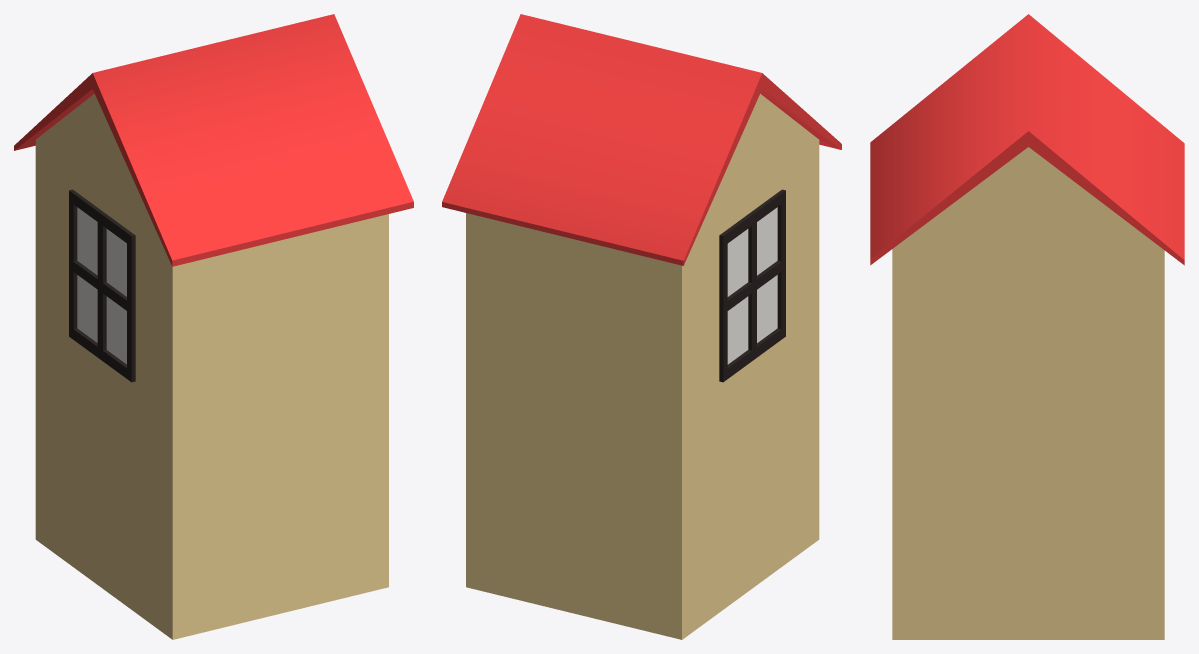
Rendered from House 05 R.FBX.
3 renders of one model, left to right at view 1: azimuth 30°, elevation 25°; view 2: azimuth 150°, elevation 25°; view 3: azimuth 270°, elevation 25°, orthographic.
Parts seen in each view (by area): view 1: Box001; view 2: Box001; view 3: Box001.
Part boxes in pixels (<box>): Box001: <box>14,14,413,639</box>; Box001: <box>442,14,841,639</box>; Box001: <box>870,14,1184,639</box>.
Size of the model in its own units: 5.57 by 11.45 by 6.32.
